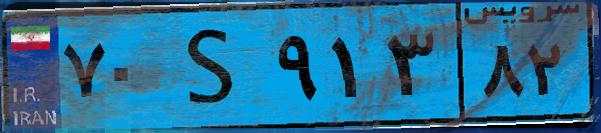0: (110, 28, 158, 98)
1: (330, 28, 385, 110)
2: (525, 38, 570, 115)
3: (385, 28, 445, 110)
7: (57, 26, 110, 100)
8: (475, 38, 525, 113)
9: (270, 28, 330, 110)
S: (158, 12, 270, 120)
